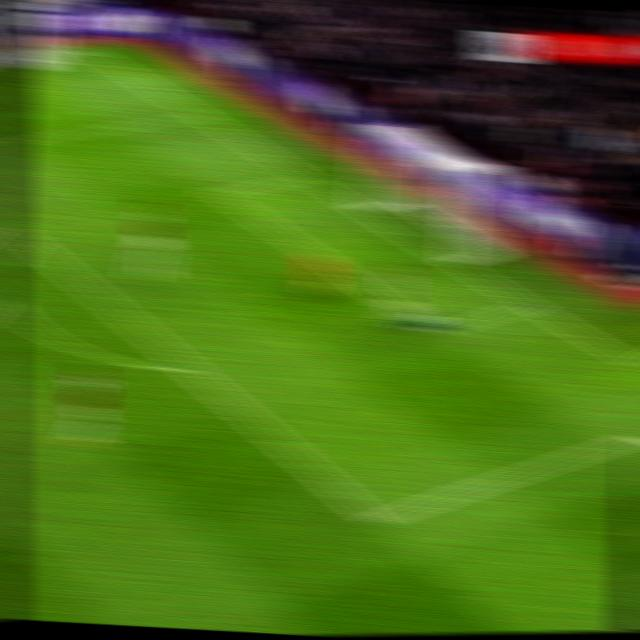bigarea_bottom_inner: (356, 507, 395, 535)
bigarea_top_outter: (184, 106, 213, 122)
bottom_arc_area_intersection: (174, 360, 204, 378)
corner: (66, 45, 101, 55)
smallarea_bottom_outter: (515, 296, 544, 313)
smallarea_top_inner: (203, 186, 234, 204)
smallarea_top_outter: (289, 170, 319, 183)
top_arc_area_intersection: (10, 234, 41, 250)
